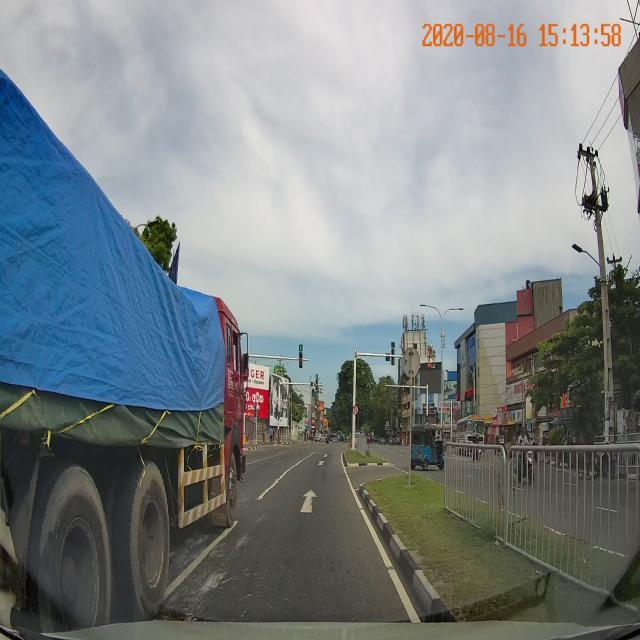forward: (239, 485, 371, 516)
